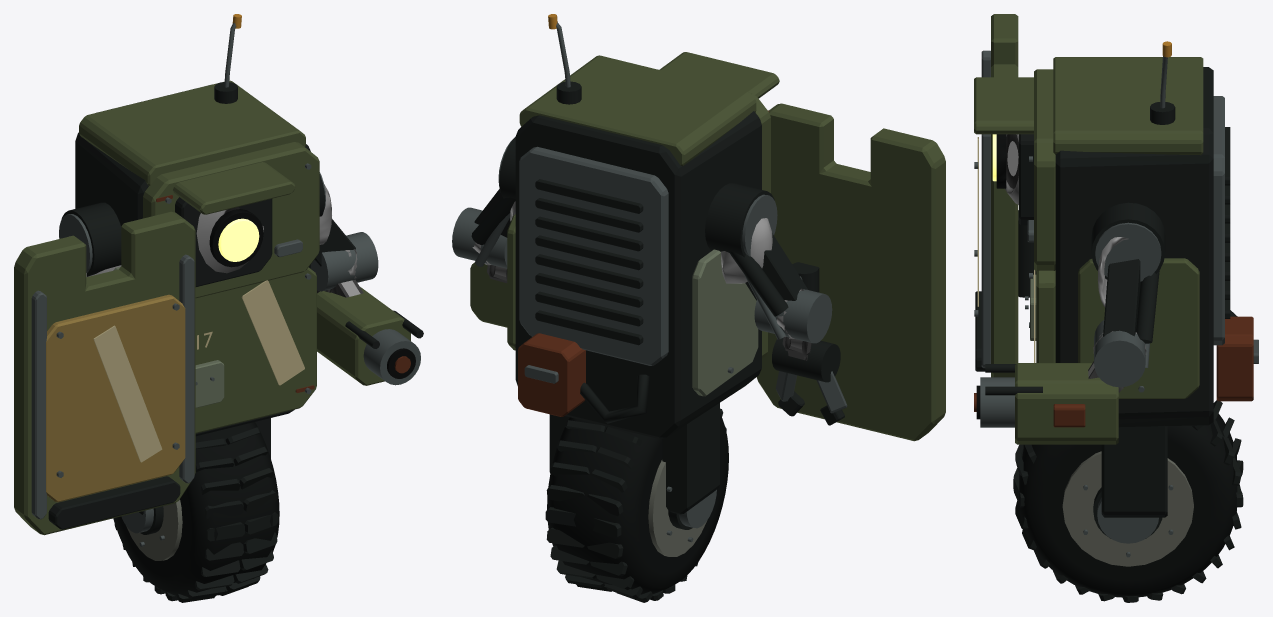
Rendered from SHIELD_KLONK.hi.glb.
3 renders of one model, left to right at view 1: azimuth 30°, elevation 25°; view 2: azimuth 150°, elevation 25°; view 3: azimuth 270°, elevation 25°, orthographic. The views are drawn at different scales.
Parts seen in each view (by area): view 1: body_geometry, shield_geometry, wheel_geometry, armR_geometry, armL_geometry; view 2: body_geometry, shield_geometry, wheel_geometry, armL_geometry, armR_geometry; view 3: body_geometry, wheel_geometry, armR_geometry, shield_geometry.
Part boxes in pixels (x1=…): body_geometry: x1=61, y1=14, x2=325, y2=533; shield_geometry: x1=14, y1=211, x2=195, y2=535; wheel_geometry: x1=113, y1=422, x2=279, y2=602; armR_geometry: x1=311, y1=172, x2=423, y2=385; armL_geometry: x1=59, y1=214, x2=121, y2=277; body_geometry: x1=499, y1=14, x2=779, y2=528; shield_geometry: x1=756, y1=103, x2=945, y2=441; wheel_geometry: x1=545, y1=408, x2=728, y2=602; armL_geometry: x1=721, y1=194, x2=847, y2=425; armR_geometry: x1=452, y1=140, x2=515, y2=327; body_geometry: x1=974, y1=41, x2=1258, y2=543; wheel_geometry: x1=1013, y1=400, x2=1243, y2=602; armR_geometry: x1=974, y1=222, x2=1161, y2=444; shield_geometry: x1=974, y1=14, x2=1036, y2=377.
Bounding box in the file's own units: 1.02 × 1.3 × 0.5861.
Materials: 2 (1 with a texture image).
